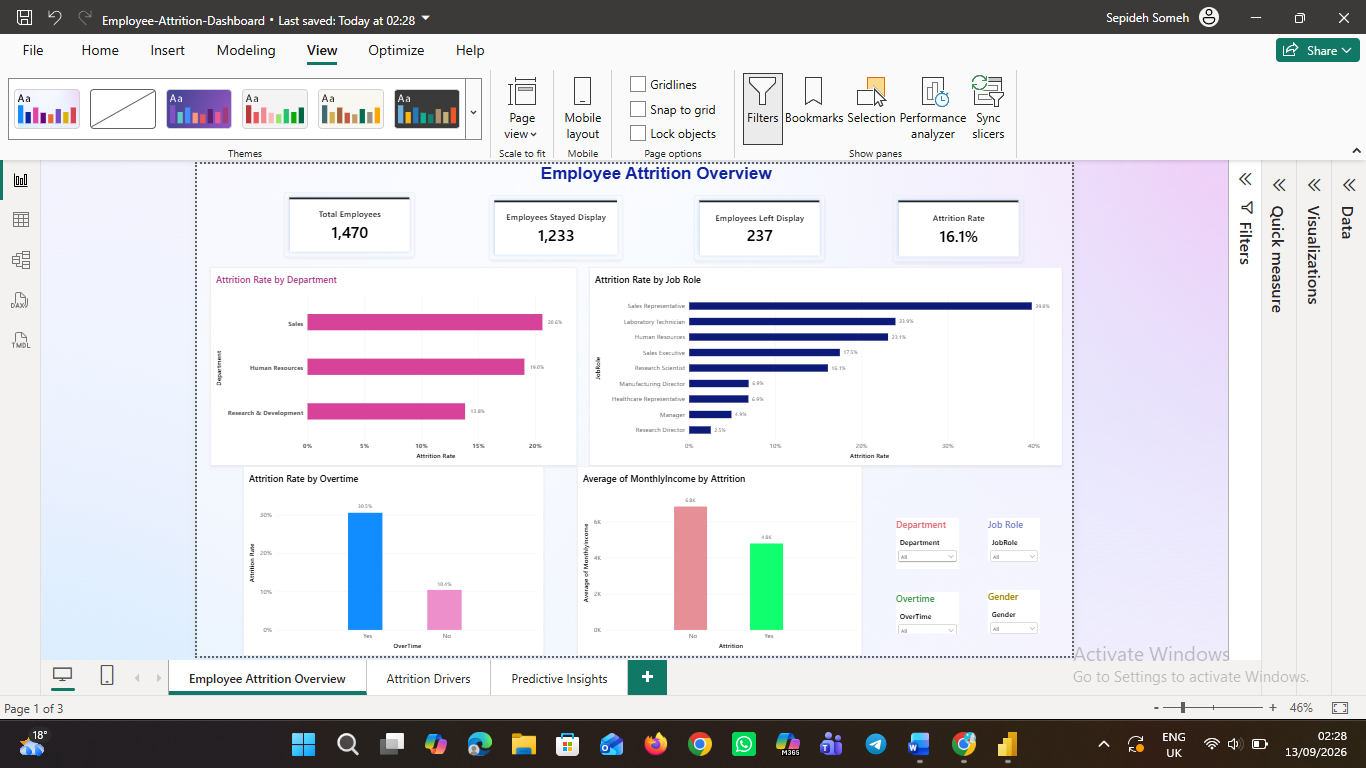

Layout of this report page (visuals, bound fields, positions):
{"tool":"powerbi","page":{"name":"Employee Attrition Overview","canvas":[1920,1080],"ordinal":0},"visuals":[{"type":"textbox","box":[705.5,0,607.2,68],"z":0},{"type":"cardVisual","fields":{"Data":["hr_attrition_clean.Total Employees"]},"box":[190.1,60.5,287.3,142.6],"z":1000},{"type":"cardVisual","fields":{"Data":["hr_attrition_clean.Employees Stayed Display"]},"box":[641.5,67,293.8,142.6],"z":2000},{"type":"cardVisual","fields":{"Data":["hr_attrition_clean.Employees Left Display"]},"box":[1091,68,287.3,144.7],"z":3000},{"type":"cardVisual","fields":{"Data":["hr_attrition_clean.Attrition Rate"]},"box":[1527.8,68,287.3,146.9],"z":4000},{"type":"clusteredBarChart","title":"Attrition Rate by Department","fields":{"Category":["hr_attrition_clean.Department"],"Y":["hr_attrition_clean.Attrition Rate"]},"box":[28.1,226.8,805.7,436.3],"z":5000},{"type":"clusteredBarChart","title":"Attrition Rate by Job Role","fields":{"Category":["hr_attrition_clean.JobRole"],"Y":["hr_attrition_clean.Attrition Rate"]},"box":[859.7,226.8,1039,436.3],"z":6000},{"type":"clusteredColumnChart","title":"Attrition Rate by Overtime","fields":{"Category":["hr_attrition_clean.OverTime"],"Y":["hr_attrition_clean.Attrition Rate"]},"box":[101.5,663.1,661,416.9],"z":7000},{"type":"clusteredColumnChart","title":"Average of MonthlyIncome by Attrition","fields":{"Category":["hr_attrition_clean.Attrition"],"Y":["Avg(hr_attrition_clean.MonthlyIncome)"]},"box":[833.8,663.1,626.4,416.9],"z":8000},{"type":"slicer","title":"Department","fields":{"Values":["hr_attrition_clean.Department"]},"box":[1533.6,777.6,138.2,112.3],"z":8001},{"type":"slicer","title":"Job Role","fields":{"Values":["hr_attrition_clean.JobRole"]},"box":[1736.6,777.6,114.5,95],"z":8002},{"type":"slicer","title":"Overtime","fields":{"Values":["hr_attrition_clean.OverTime"]},"box":[1533.6,939.6,138.2,90.7],"z":8003},{"type":"slicer","title":"Gender","fields":{"Values":["hr_attrition_clean.Gender"]},"box":[1736.6,935.3,114.5,95],"z":8004}]}

Visuals, with their boxes on the page's 1920x1080 design canvas (x1, y1, x2, y2). These are canvas units, not pixel positions in the 1366x768 screenshot, which may show the page scaled, cropped or inside an application window:
textbox: [x1=706, y1=0, x2=1313, y2=68]
cardVisual - hr_attrition_clean.Total Employees: [x1=190, y1=60, x2=477, y2=203]
cardVisual - hr_attrition_clean.Employees Stayed Display: [x1=642, y1=67, x2=935, y2=210]
cardVisual - hr_attrition_clean.Employees Left Display: [x1=1091, y1=68, x2=1378, y2=213]
cardVisual - hr_attrition_clean.Attrition Rate: [x1=1528, y1=68, x2=1815, y2=215]
"Attrition Rate by Department" clusteredBarChart: [x1=28, y1=227, x2=834, y2=663]
"Attrition Rate by Job Role" clusteredBarChart: [x1=860, y1=227, x2=1899, y2=663]
"Attrition Rate by Overtime" clusteredColumnChart: [x1=102, y1=663, x2=762, y2=1080]
"Average of MonthlyIncome by Attrition" clusteredColumnChart: [x1=834, y1=663, x2=1460, y2=1080]
"Department" slicer: [x1=1534, y1=778, x2=1672, y2=890]
"Job Role" slicer: [x1=1737, y1=778, x2=1851, y2=873]
"Overtime" slicer: [x1=1534, y1=940, x2=1672, y2=1030]
"Gender" slicer: [x1=1737, y1=935, x2=1851, y2=1030]
